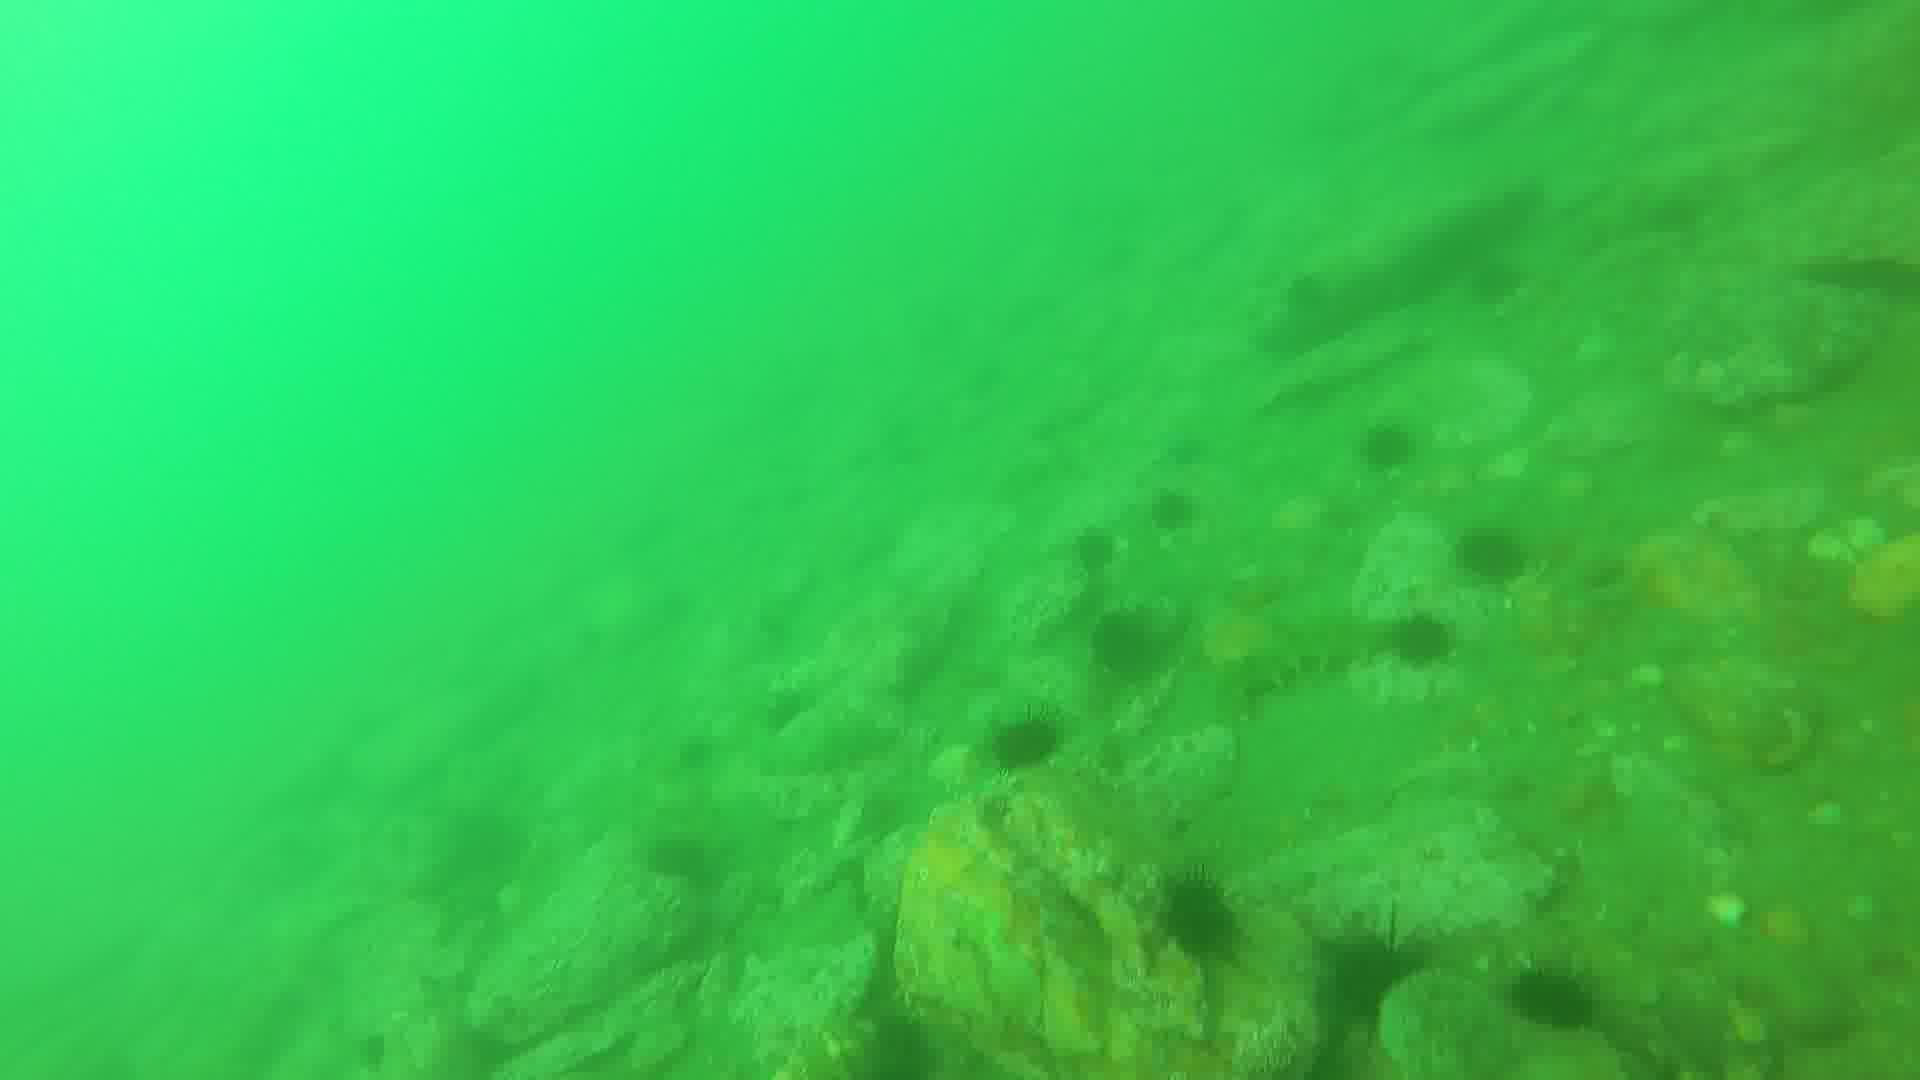echinus: (1160, 872, 1246, 965), (1338, 931, 1429, 1004), (1518, 963, 1600, 1031), (984, 721, 1060, 786), (1457, 524, 1519, 589), (1395, 605, 1451, 669), (1367, 419, 1418, 481)
holothurian: (1246, 611, 1400, 698)
